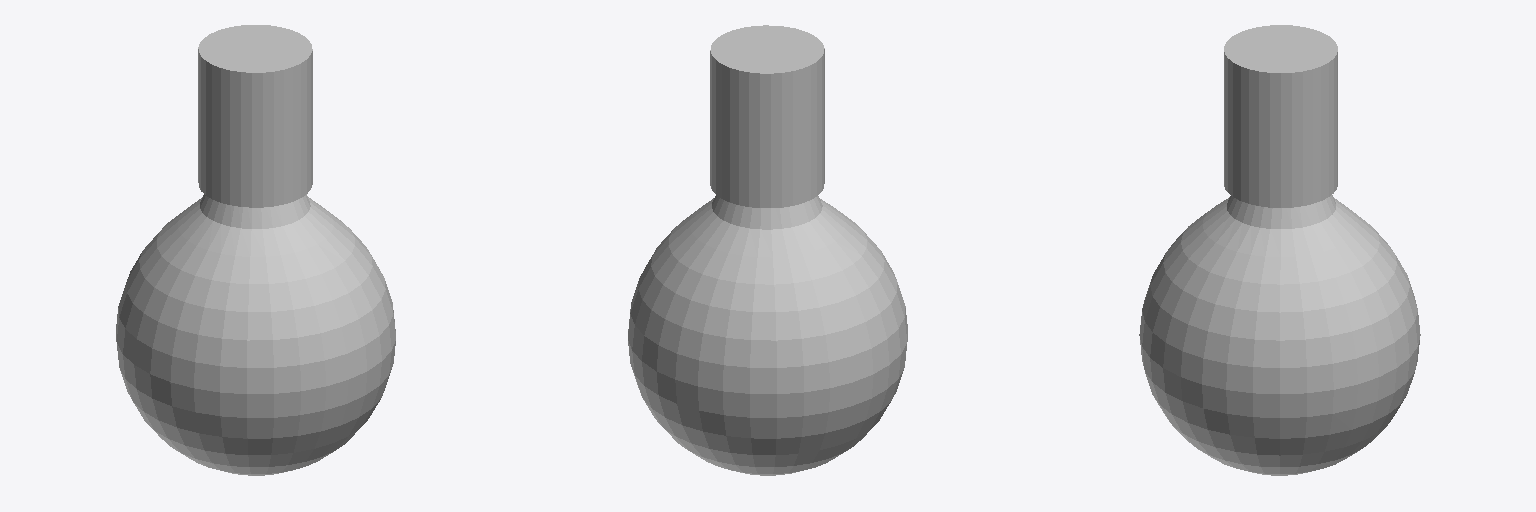
File: bulb.obj
3 renders of one model, left to right at view 1: azimuth 30°, elevation 25°; view 2: azimuth 150°, elevation 25°; view 3: azimuth 270°, elevation 25°, orthographic.
Visible parts, largest first — view 1: Sphere, Cylinder_Cylinder.001; view 2: Sphere, Cylinder_Cylinder.001; view 3: Sphere, Cylinder_Cylinder.001.
Part boxes in pixels (left/top/right/bottom): Sphere: left=116, top=194, right=395, bottom=475; Cylinder_Cylinder.001: left=198, top=25, right=312, bottom=207; Sphere: left=628, top=195, right=907, bottom=475; Cylinder_Cylinder.001: left=710, top=25, right=824, bottom=207; Sphere: left=1139, top=195, right=1420, bottom=475; Cylinder_Cylinder.001: left=1224, top=25, right=1337, bottom=207.
Size of the model in its own units: 1.23 by 2 by 1.23.